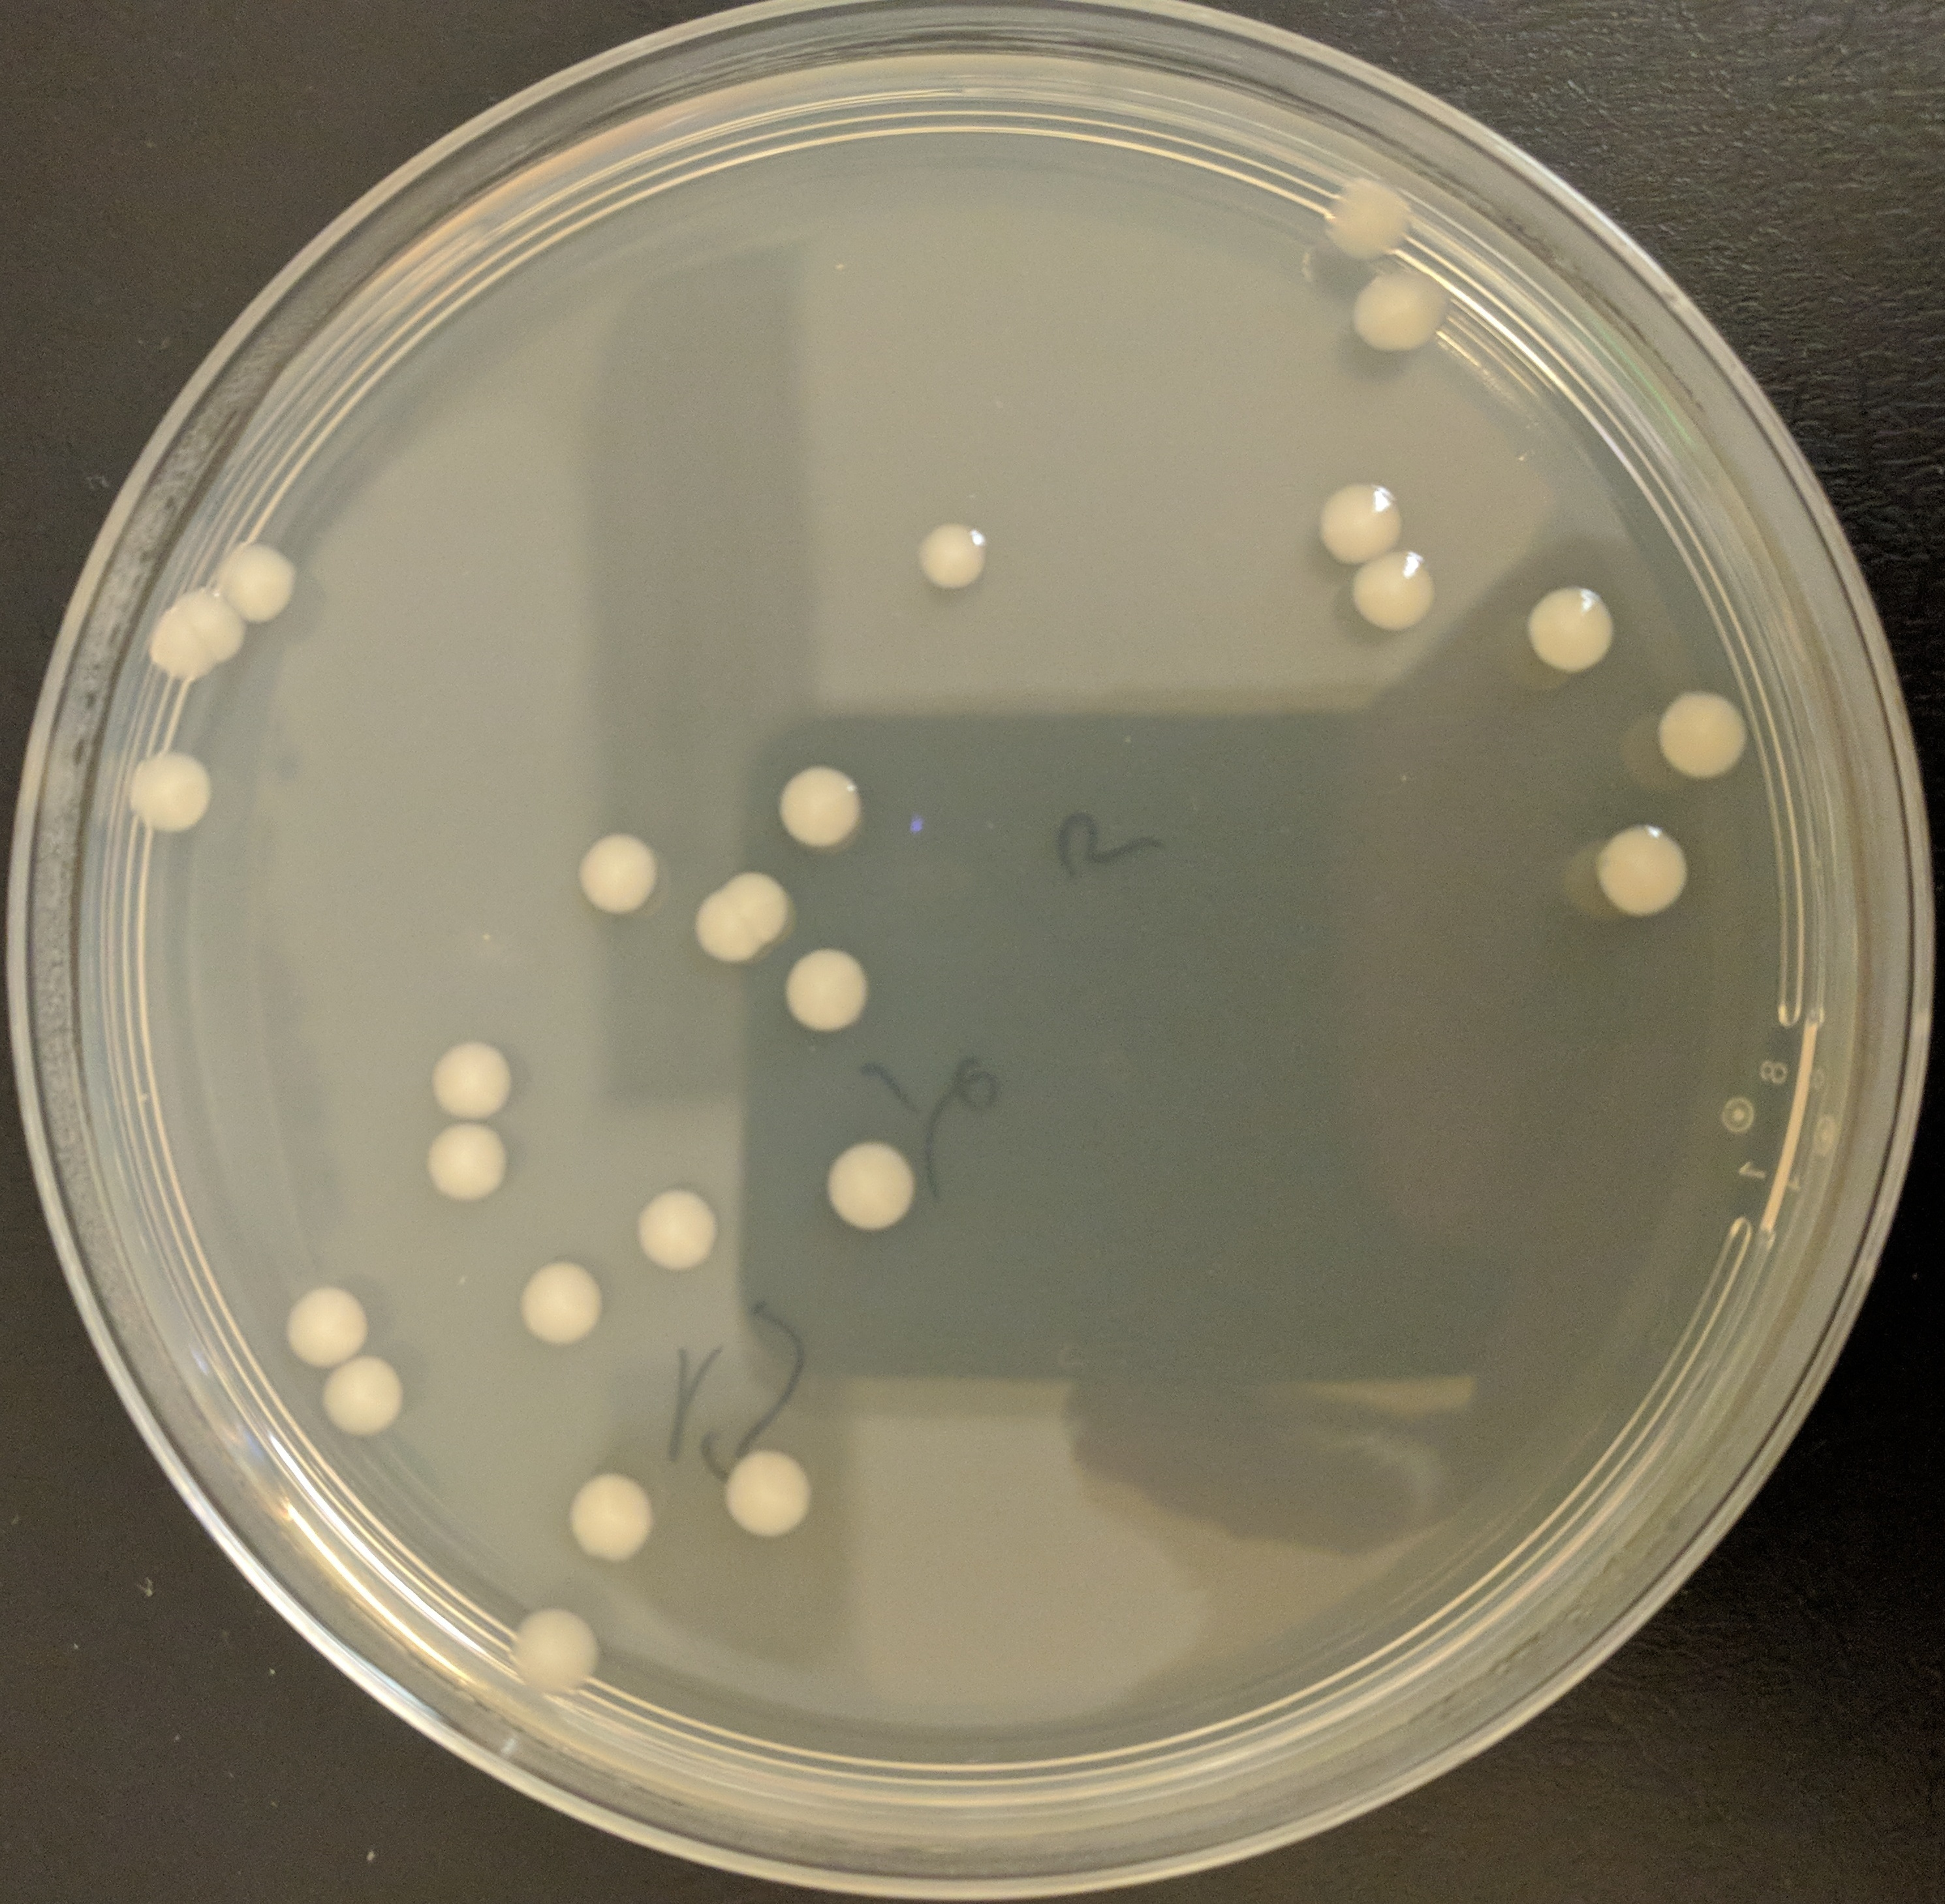sp11: (556, 1463, 668, 1562), (774, 936, 878, 1041), (713, 1435, 817, 1540), (821, 1128, 918, 1238), (1588, 823, 1698, 919), (624, 1177, 725, 1278), (1351, 262, 1452, 363), (1523, 581, 1621, 682), (275, 1280, 375, 1377), (505, 1604, 600, 1707), (117, 751, 223, 842), (514, 1252, 608, 1353), (774, 762, 866, 863), (1316, 169, 1413, 263), (312, 1348, 411, 1440), (1337, 547, 1438, 638), (573, 825, 666, 921), (422, 1030, 519, 1119), (1657, 685, 1748, 779), (422, 1119, 514, 1207), (216, 539, 308, 617), (1316, 479, 1403, 561), (173, 579, 246, 670), (913, 518, 993, 600), (723, 868, 802, 950), (138, 610, 220, 687), (688, 893, 762, 971)
